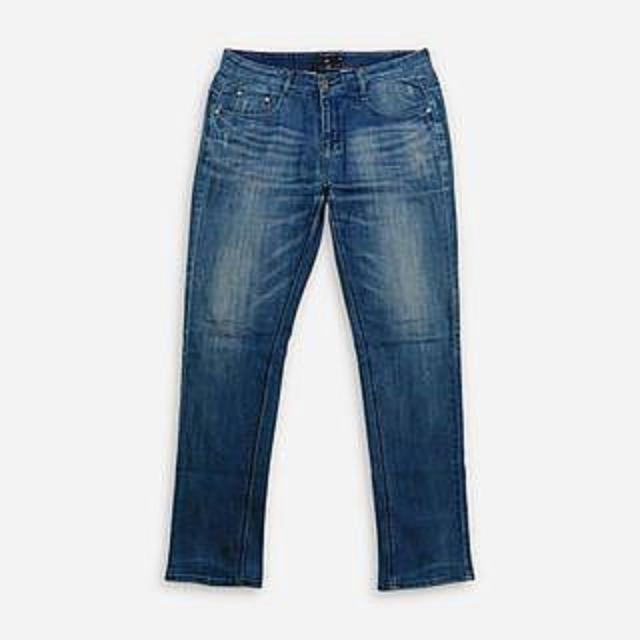TROUSER: (155, 30, 499, 599)
